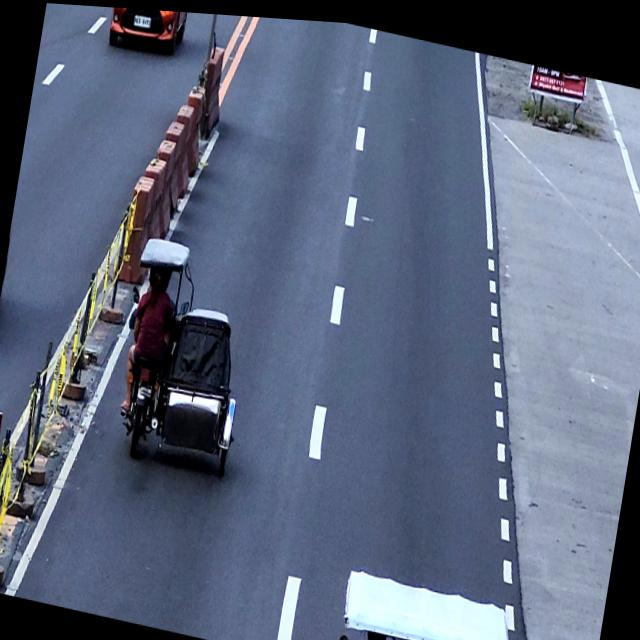Car: (106, 6, 191, 58)
License-Plate: (132, 10, 152, 29)
Tricycle: (106, 230, 262, 478), (331, 563, 518, 640)
